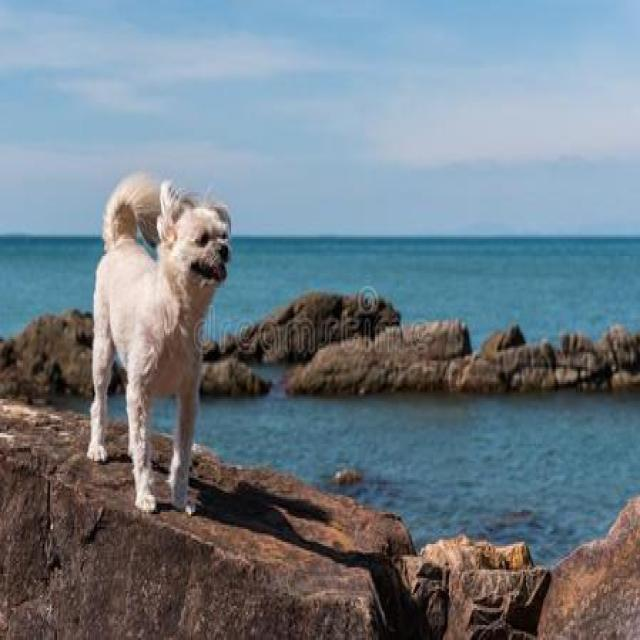reef: (291, 283, 621, 420)
